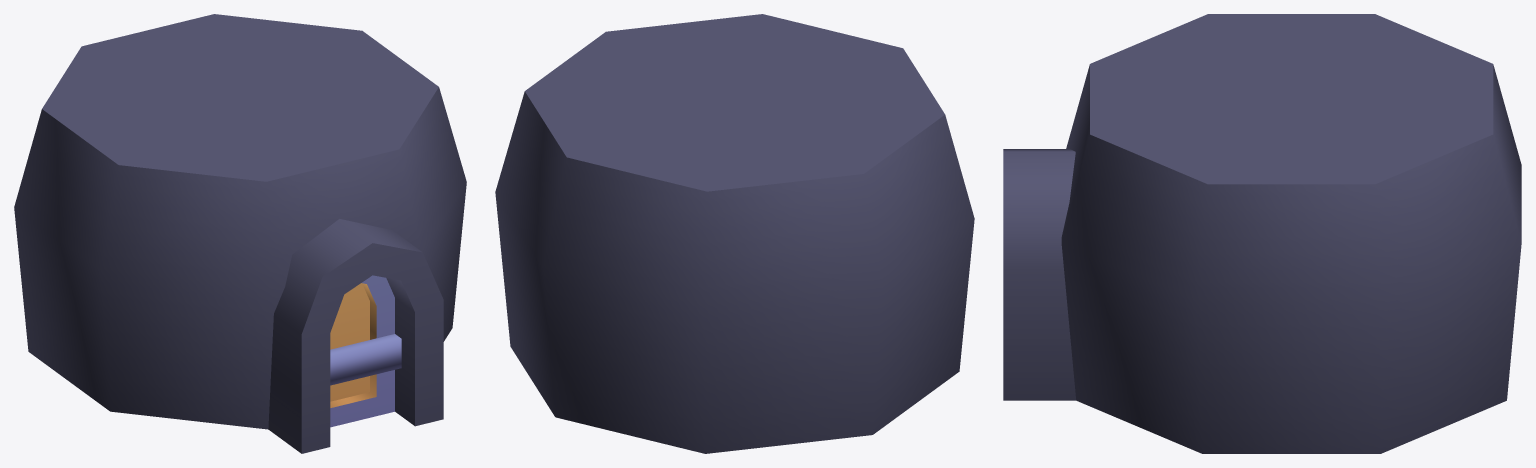
The model's file is tower-base-door.fbx.
3 renders of one model, left to right at view 1: azimuth 30°, elevation 25°; view 2: azimuth 150°, elevation 25°; view 3: azimuth 270°, elevation 25°, orthographic. The views are drawn at different scales.
Visible parts, largest first — view 1: tower-base-door; view 2: tower-base-door; view 3: tower-base-door.
Part boxes in pixels (box(x1,y1,x2,y2)): tower-base-door: box(14, 14, 466, 453); tower-base-door: box(495, 14, 974, 453); tower-base-door: box(1003, 14, 1521, 453).
Size of the model in its own units: 316 by 200 by 356.
